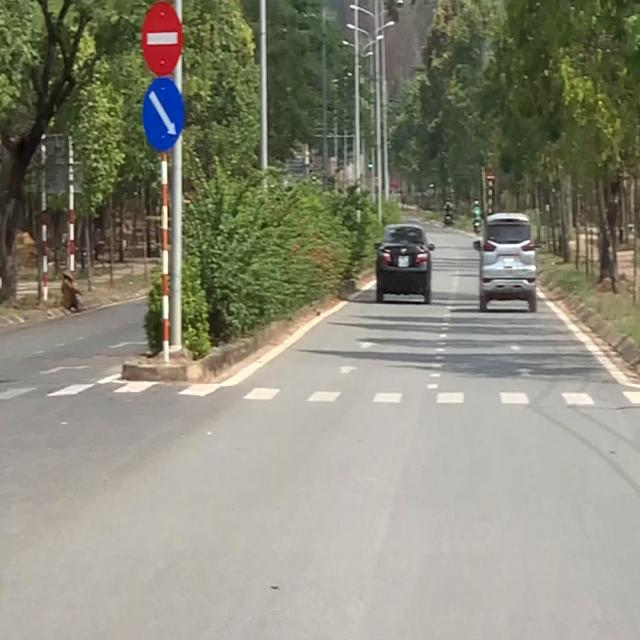Cam nguoc chieu: (142, 0, 182, 77)
Hieu lenh: (142, 77, 184, 152)
